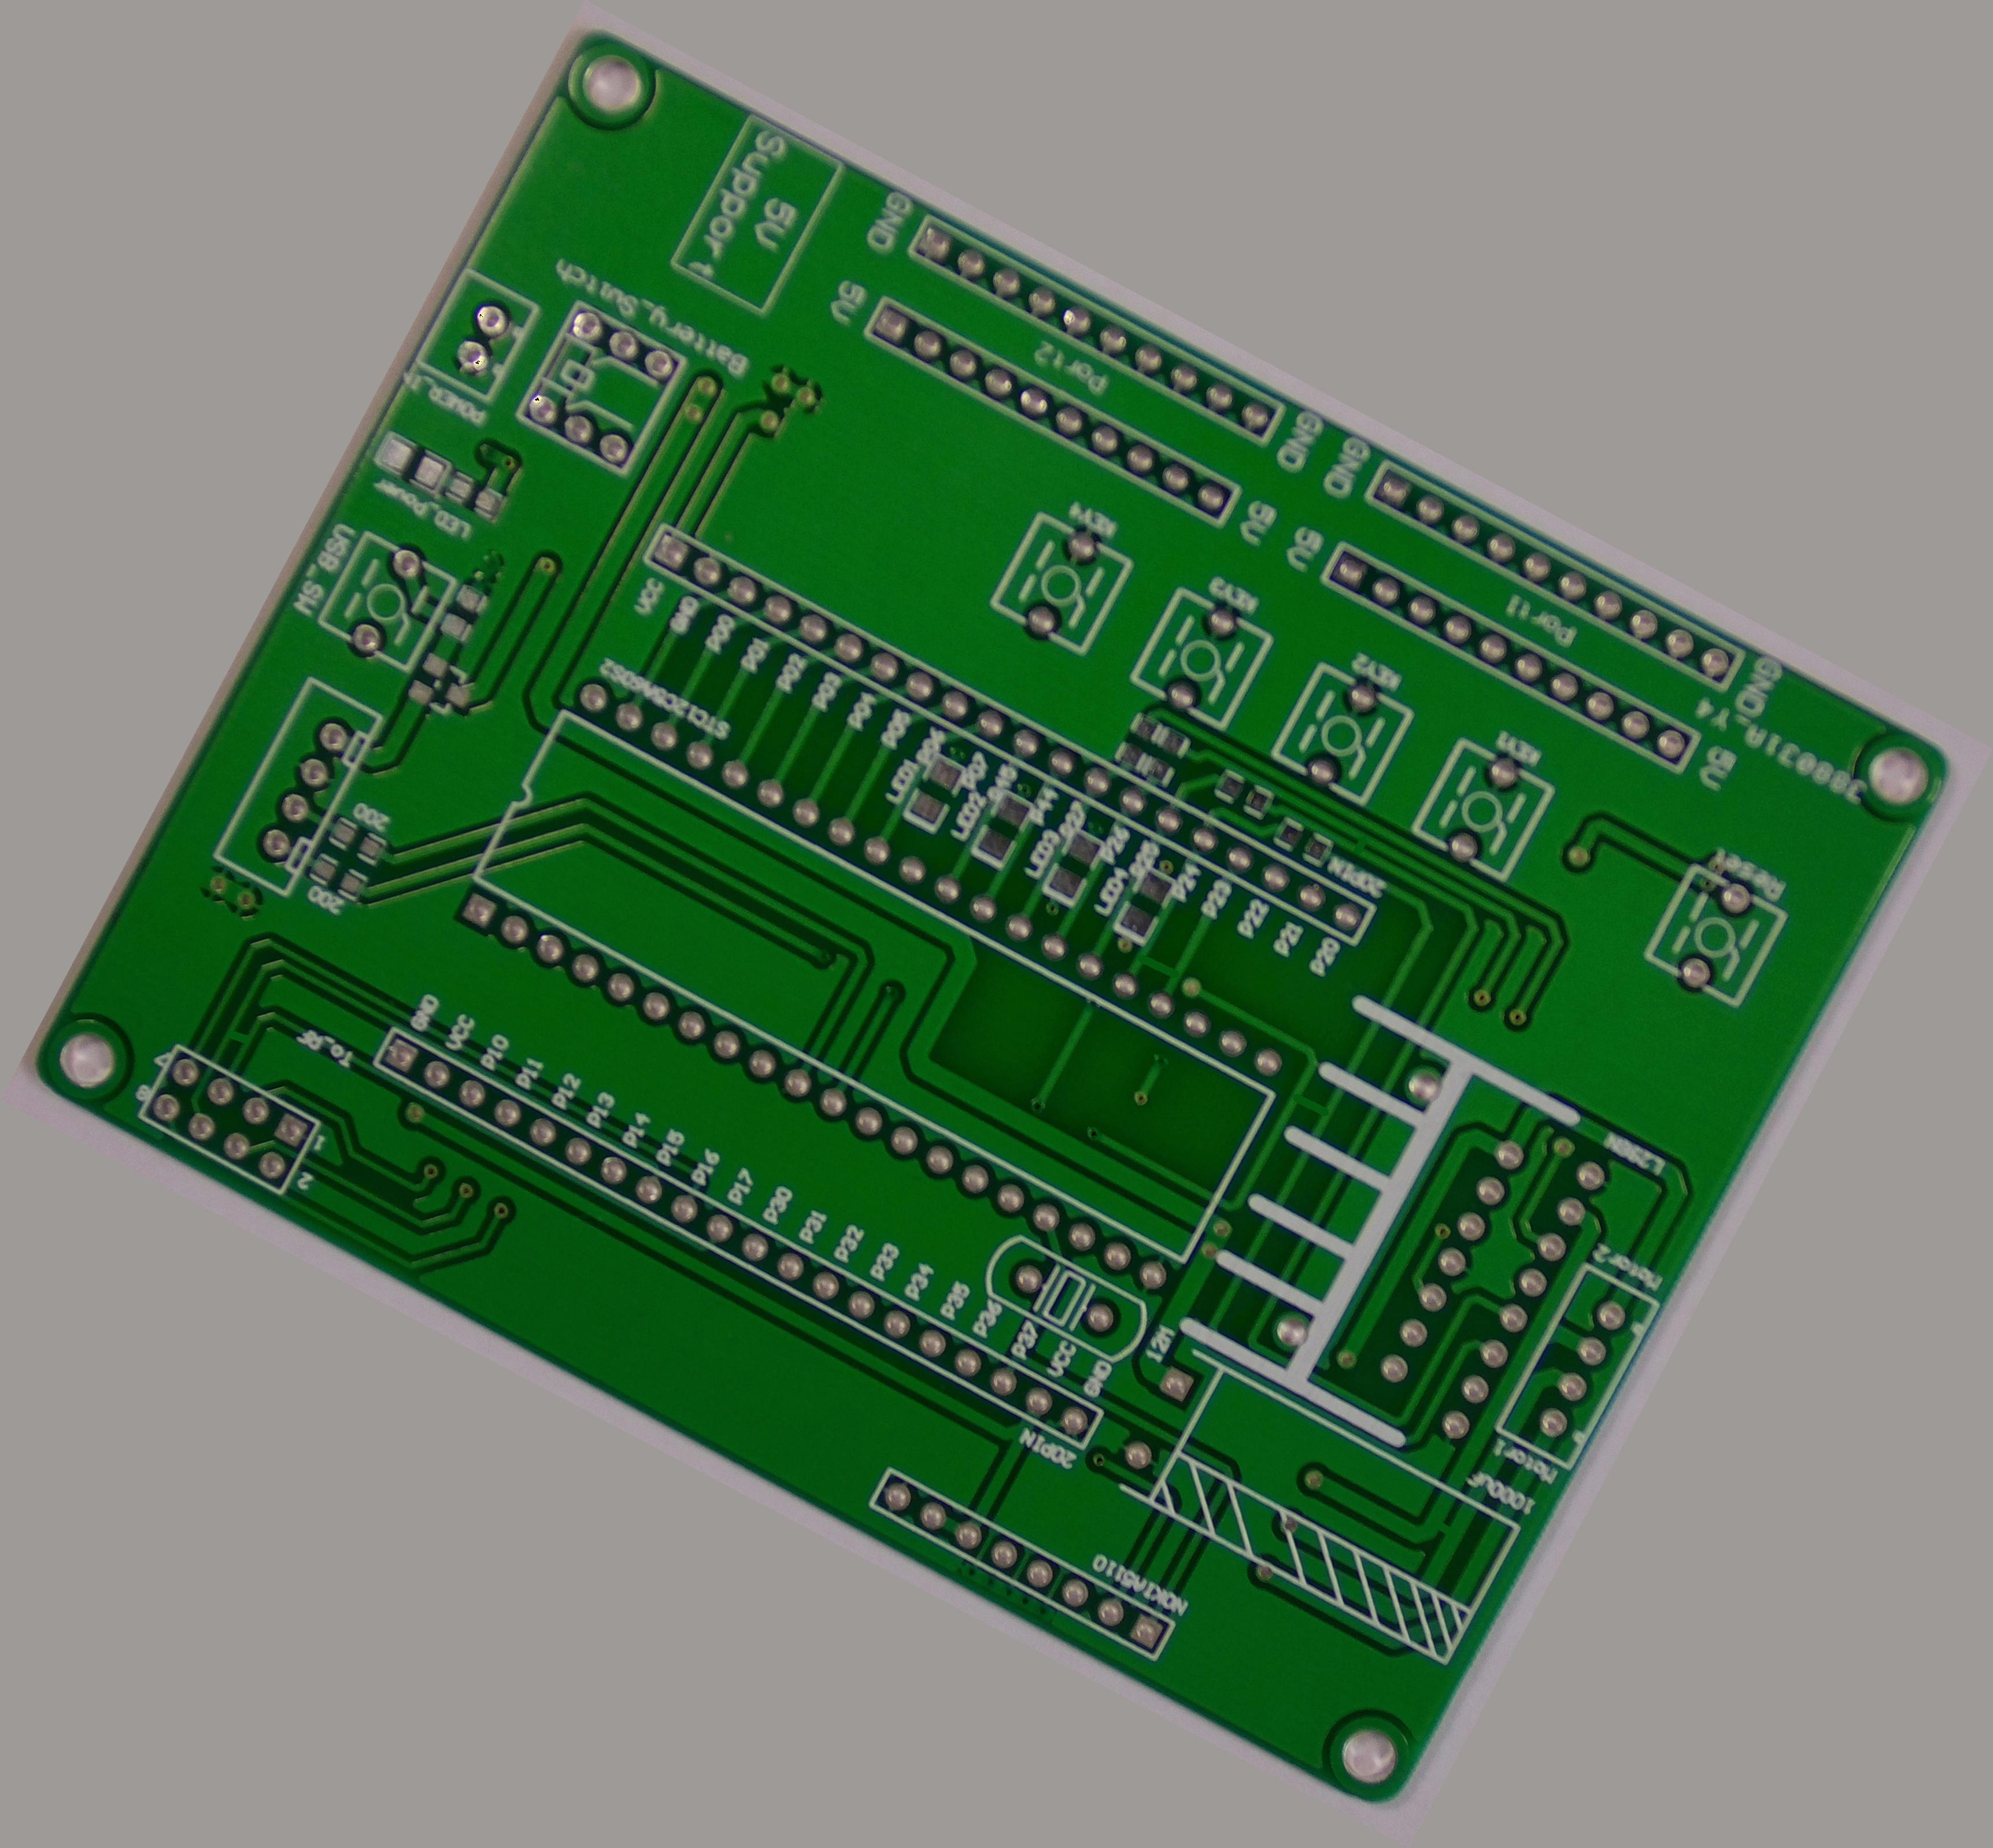short: (1119, 927, 1202, 1004), (1272, 1072, 1347, 1139), (205, 1006, 269, 1066), (1418, 1502, 1470, 1554), (1338, 822, 1385, 868)
